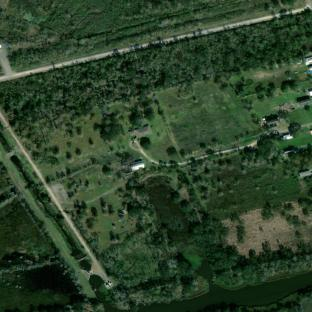Floresta: (0, 12, 312, 144), (99, 181, 197, 308), (190, 213, 264, 287), (144, 176, 188, 251), (201, 291, 312, 312), (283, 144, 312, 174), (100, 113, 122, 141), (255, 135, 278, 160)
